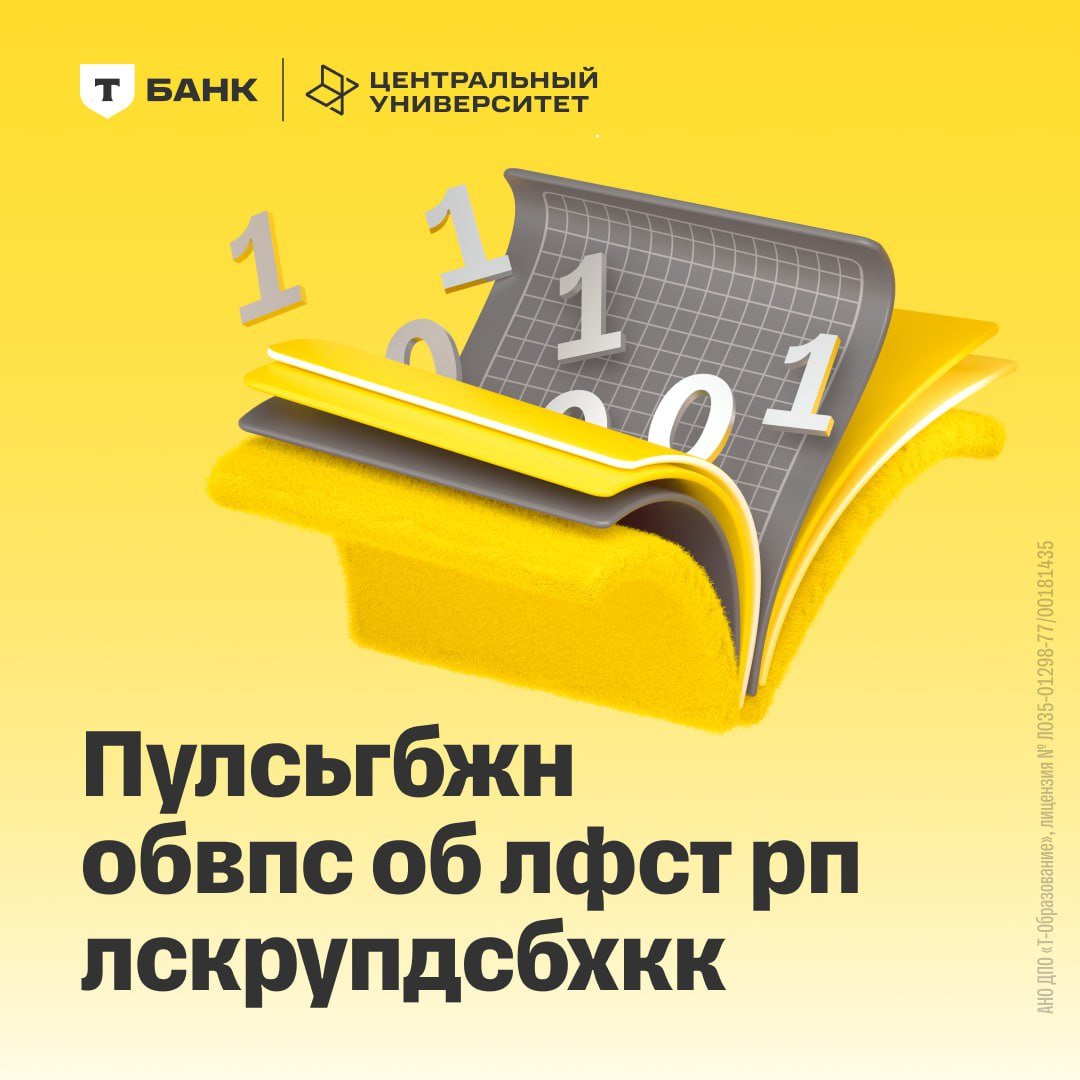TBank: (78, 63, 136, 120)
